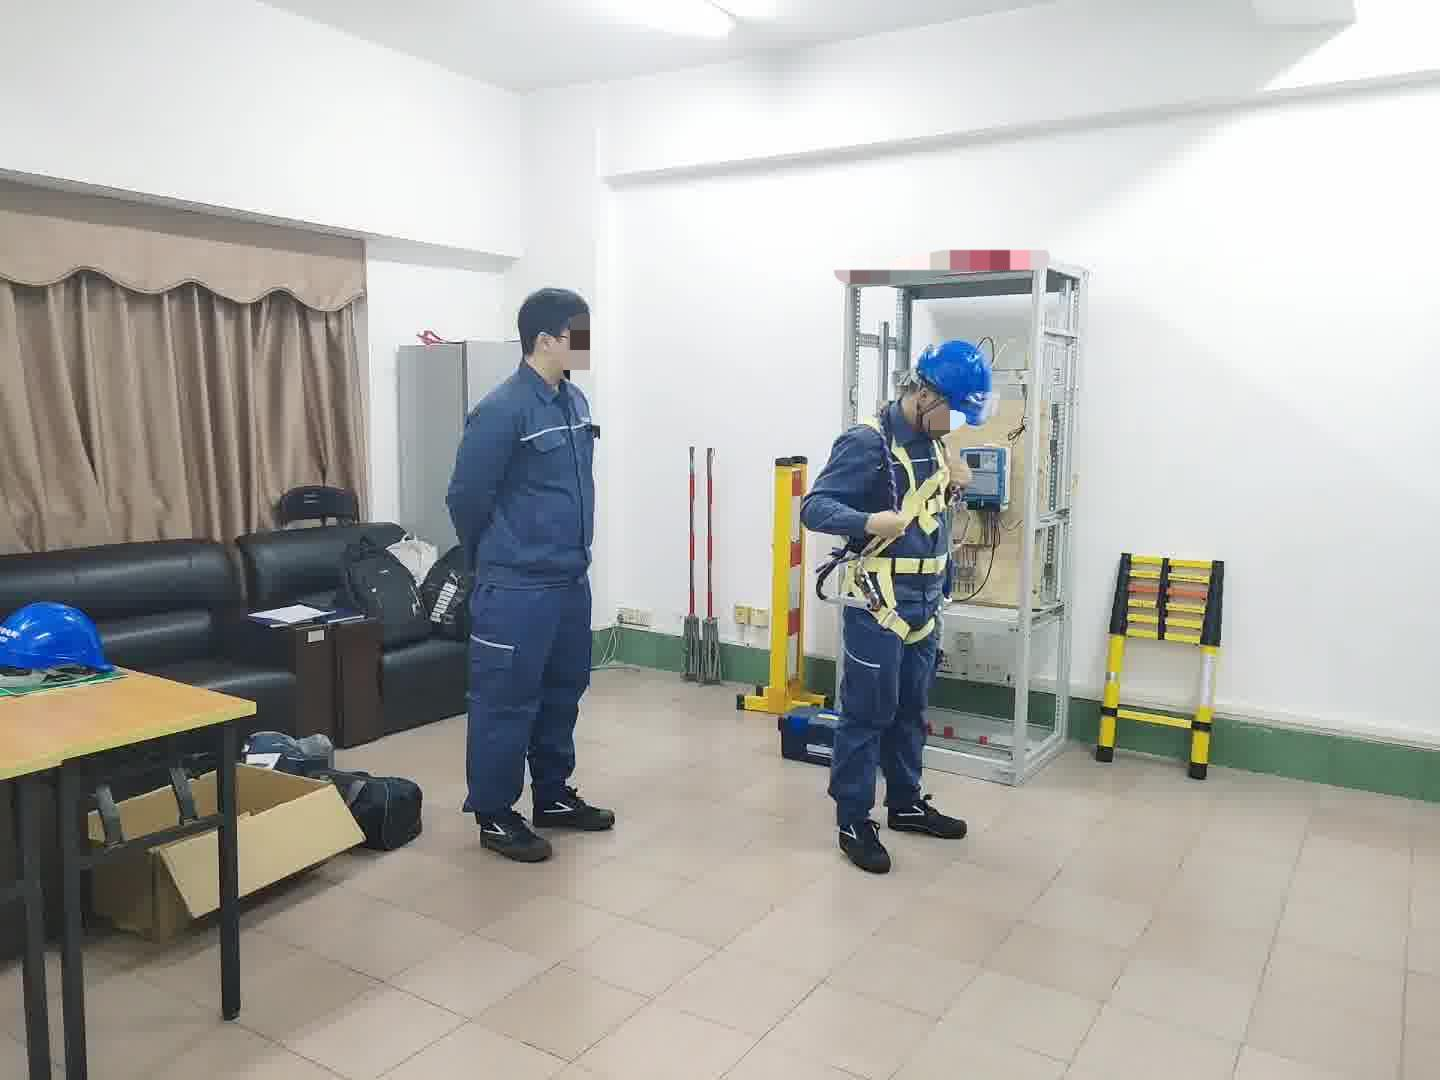halt: (916, 339, 997, 434)
inear: (915, 386, 948, 427)
noear: (534, 330, 568, 368)
unhalt: (517, 287, 598, 380)
